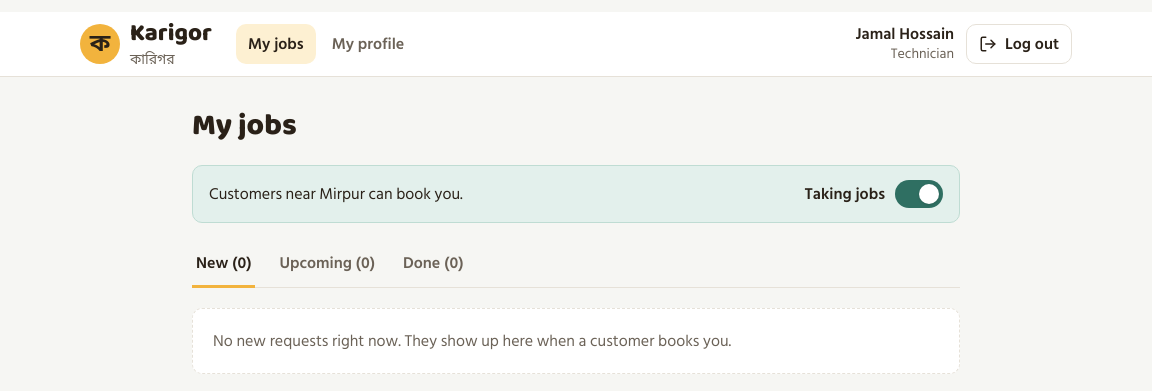
Scenario: My jobs › turns taking jobs off and on
Click the switch labelled "Taking jobs" at (874, 194), box [804,180,943,208]
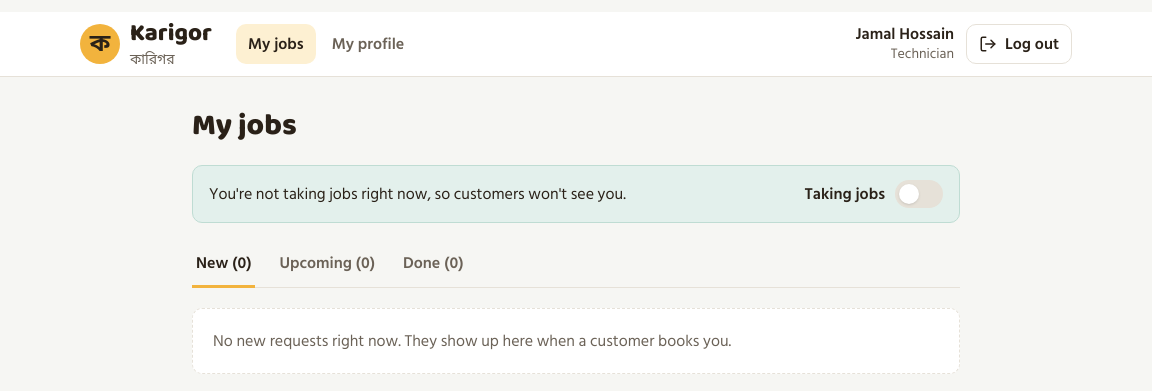
Expected: the text "not taking jobs right now" is shown, [209,181,626,207]
